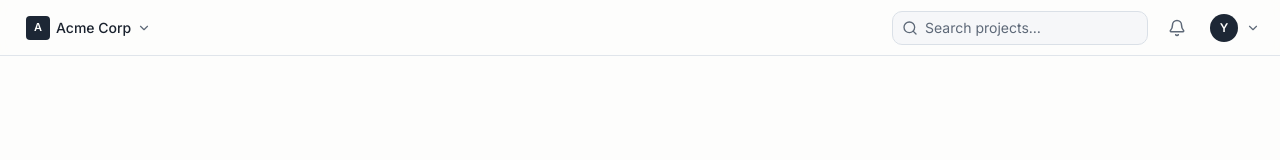
Header › filters projects in the search dropdown
In the field with placeholder "Search projects…": (1020, 28) [892,10,1148,44], type "Atlas"
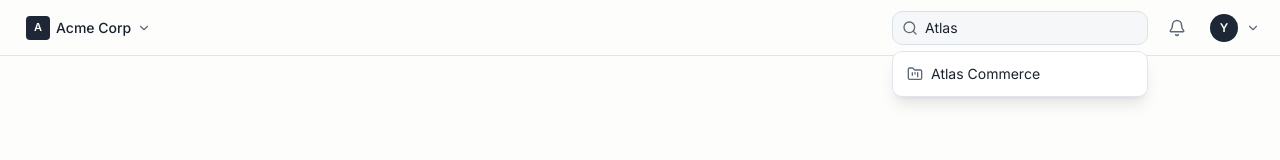
Result: the text "Atlas Commerce" is shown at [931,64,1040,84]
